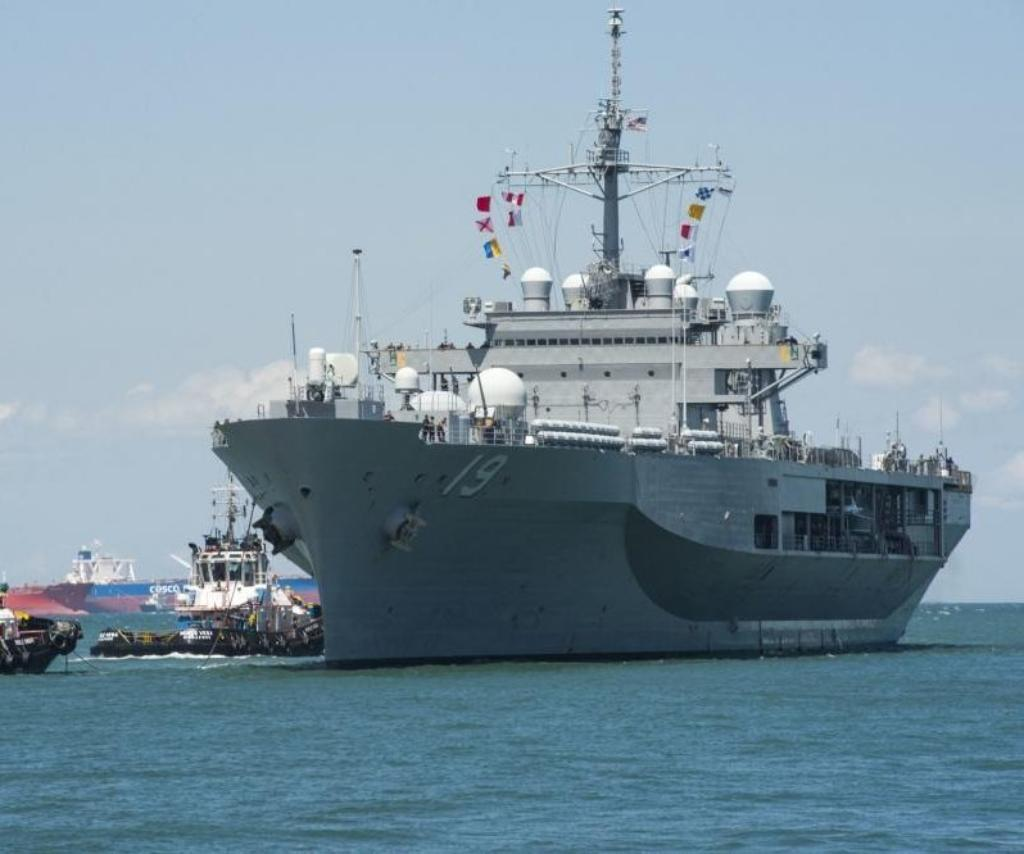Warship: (201, 3, 975, 669)
